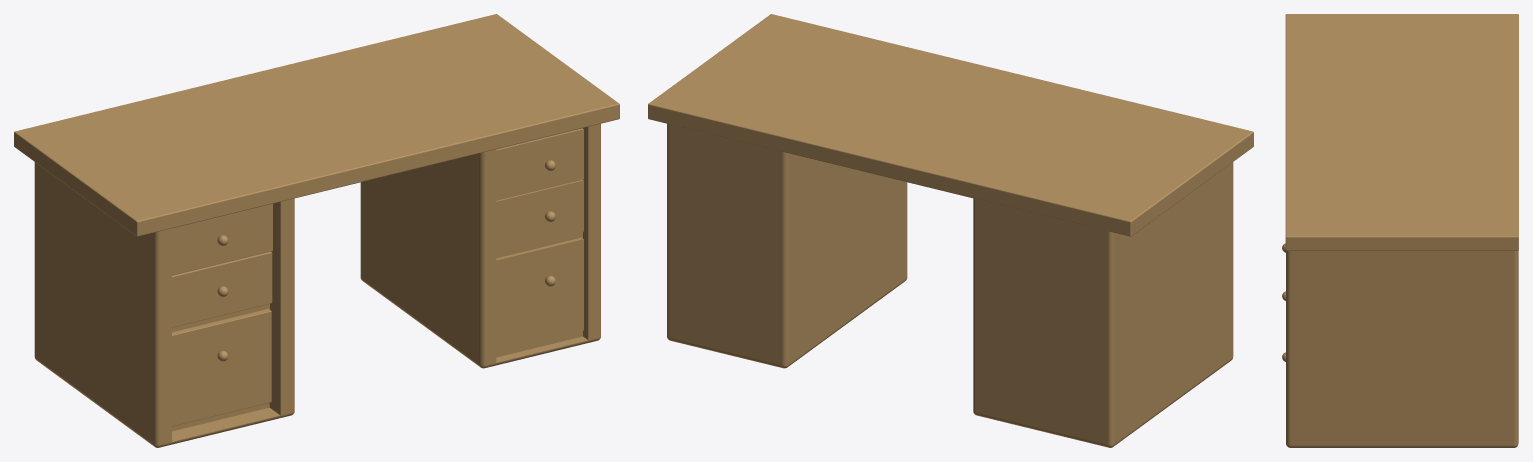
Rendered from table8.obj.
3 views of the same model, side by side, from view 1: azimuth 30°, elevation 25°; view 2: azimuth 150°, elevation 25°; view 3: azimuth 270°, elevation 25° (orthographic). The views are drawn at different scales.
Visible parts, largest first — view 1: table8; view 2: table8; view 3: table8.
Part boxes in pixels (x1=…): table8: x1=14, y1=14, x2=619, y2=447; table8: x1=648, y1=14, x2=1253, y2=447; table8: x1=1282, y1=14, x2=1518, y2=447.
Bounding box in the file's own units: 454 × 210 × 204.
